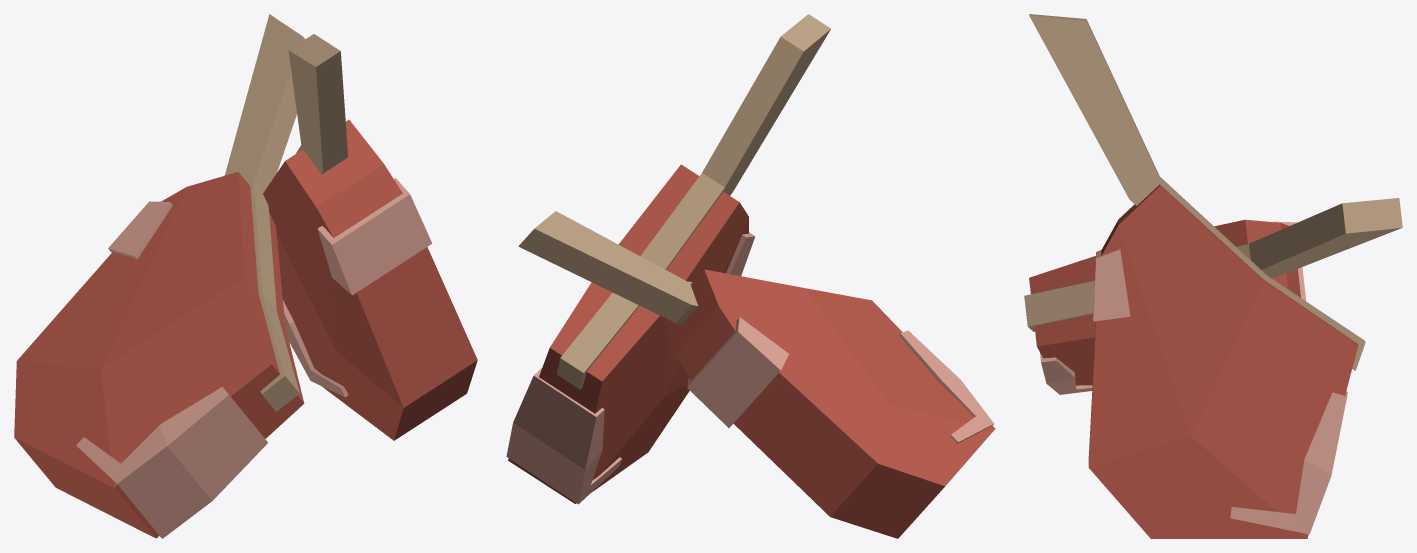
The model's file is lambRibCutPair.fbx.
The picture shows the model from 3 angles, left to right: view 1: azimuth 30°, elevation 25°; view 2: azimuth 150°, elevation 25°; view 3: azimuth 270°, elevation 25°; orthographic projection. The views are drawn at different scales.
Visible parts, largest first — view 1: lambRibCutPair; view 2: lambRibCutPair; view 3: lambRibCutPair.
Boxes of the visible parts, left/top/right/bottom form: lambRibCutPair: left=14, top=14, right=477, bottom=538; lambRibCutPair: left=506, top=14, right=995, bottom=538; lambRibCutPair: left=1024, top=14, right=1402, bottom=538.
Bounding box in the file's own units: 21.17 × 21.86 × 16.27.
1 material, 1 textured.
